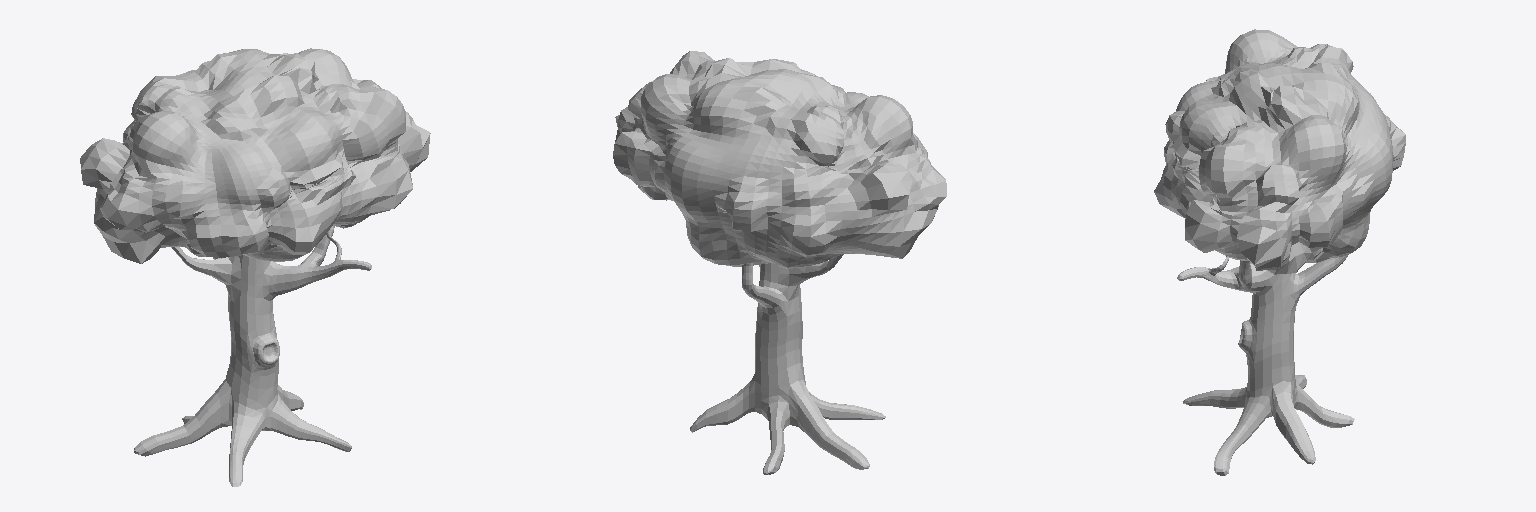
Rendered from arbolete.obj.
The picture shows the model from 3 angles: view 1: azimuth 30°, elevation 25°; view 2: azimuth 150°, elevation 25°; view 3: azimuth 270°, elevation 25°; orthographic projection.
Parts seen in each view (by area): view 1: group1 pCube38, pCube37 group1; view 2: group1 pCube38, pCube37 group1; view 3: group1 pCube38, pCube37 group1.
Part boxes in pixels (bbox=[...]): group1 pCube38: bbox=[80, 48, 430, 263]; pCube37 group1: bbox=[134, 226, 371, 486]; group1 pCube38: bbox=[613, 51, 946, 268]; pCube37 group1: bbox=[690, 255, 885, 474]; group1 pCube38: bbox=[1154, 29, 1405, 274]; pCube37 group1: bbox=[1177, 255, 1354, 475].
Size of the model in its own units: 14.7 by 16.22 by 9.8.